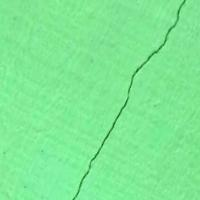crack: (68, 0, 199, 199)
